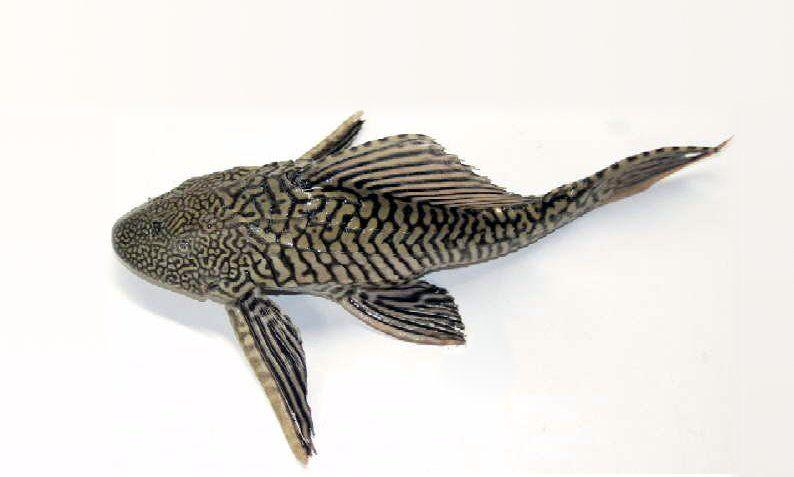Janitor Fish: (114, 109, 726, 463)
